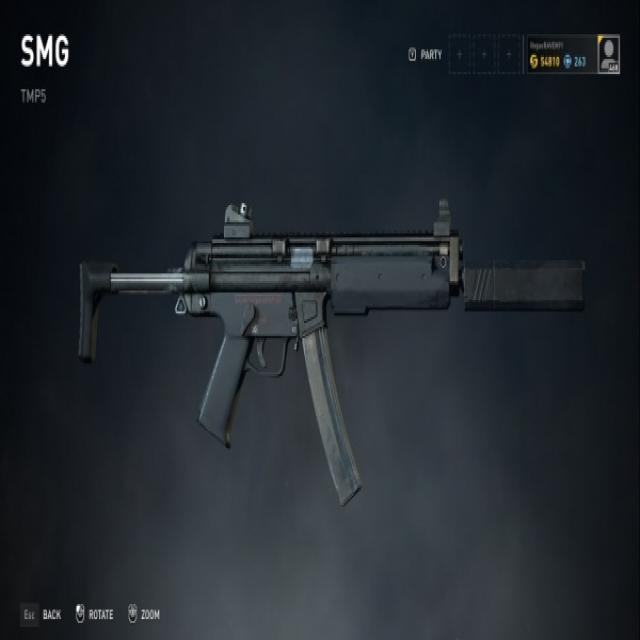weapon: (79, 204, 586, 513)
